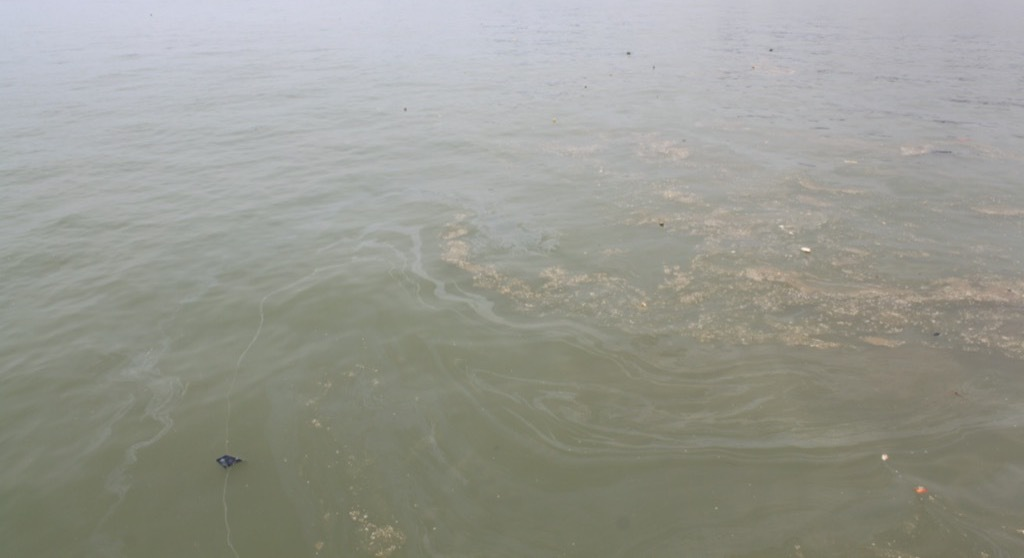organic: (948, 381, 984, 414), (922, 323, 953, 346), (575, 77, 596, 98), (395, 100, 414, 118), (646, 59, 665, 76), (623, 43, 638, 64), (655, 215, 672, 233), (761, 41, 776, 57)
plastic: (210, 449, 252, 485), (872, 444, 899, 468), (908, 477, 933, 502), (794, 238, 820, 262)
